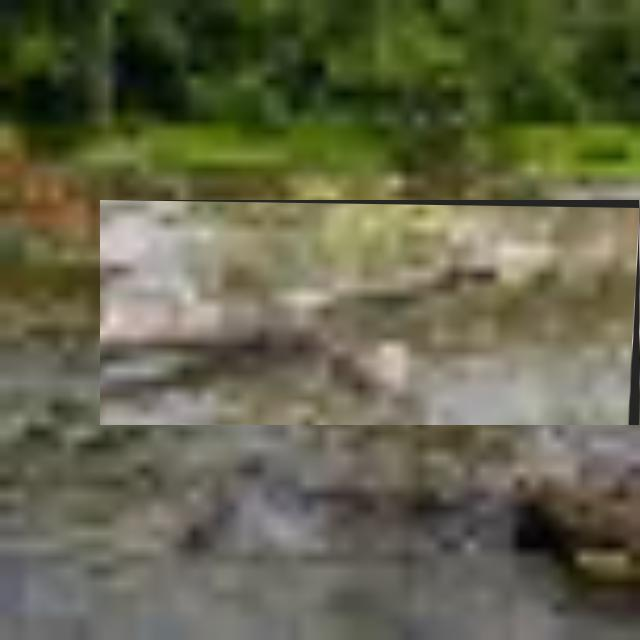Fallen Tree: (100, 200, 640, 426)
